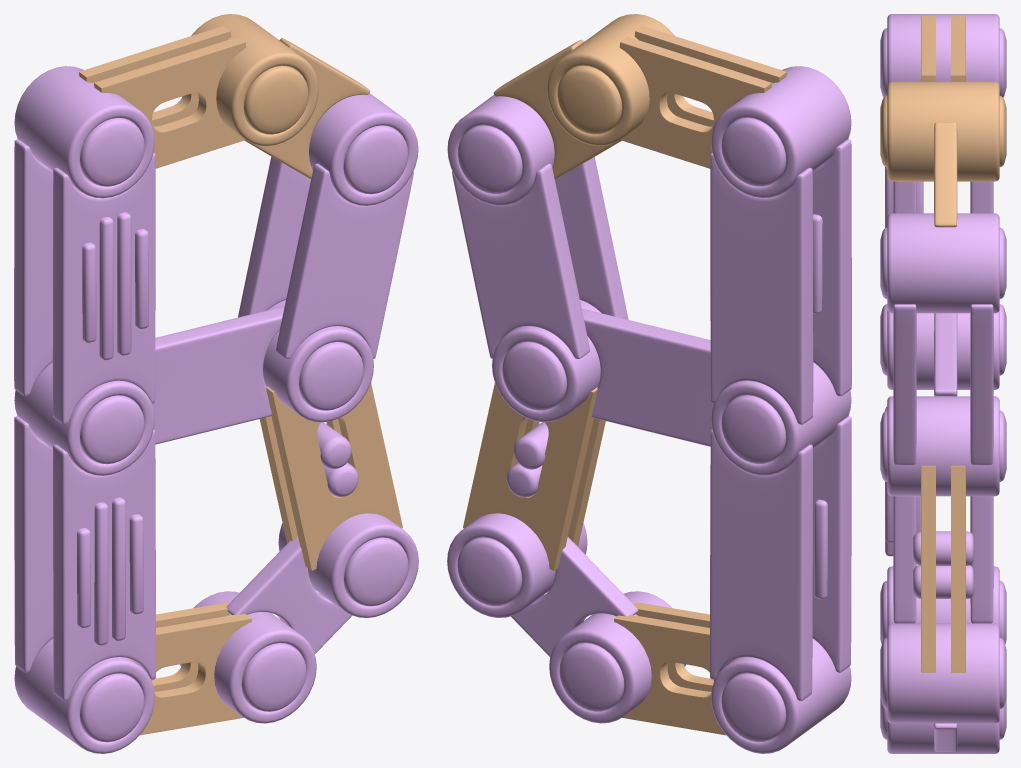
3 views of the same model, side by side, from view 1: azimuth 30°, elevation 25°; view 2: azimuth 150°, elevation 25°; view 3: azimuth 270°, elevation 25° (orthographic).
Visible parts, largest first — view 1: Cube.079; view 2: Cube.079; view 3: Cube.079.
Part boxes in pixels (<box>): Cube.079: <box>14,14,418,753</box>; Cube.079: <box>447,14,851,753</box>; Cube.079: <box>880,14,1006,753</box>.
Size of the model in its own units: 1.87 by 3.4 by 0.5799.
